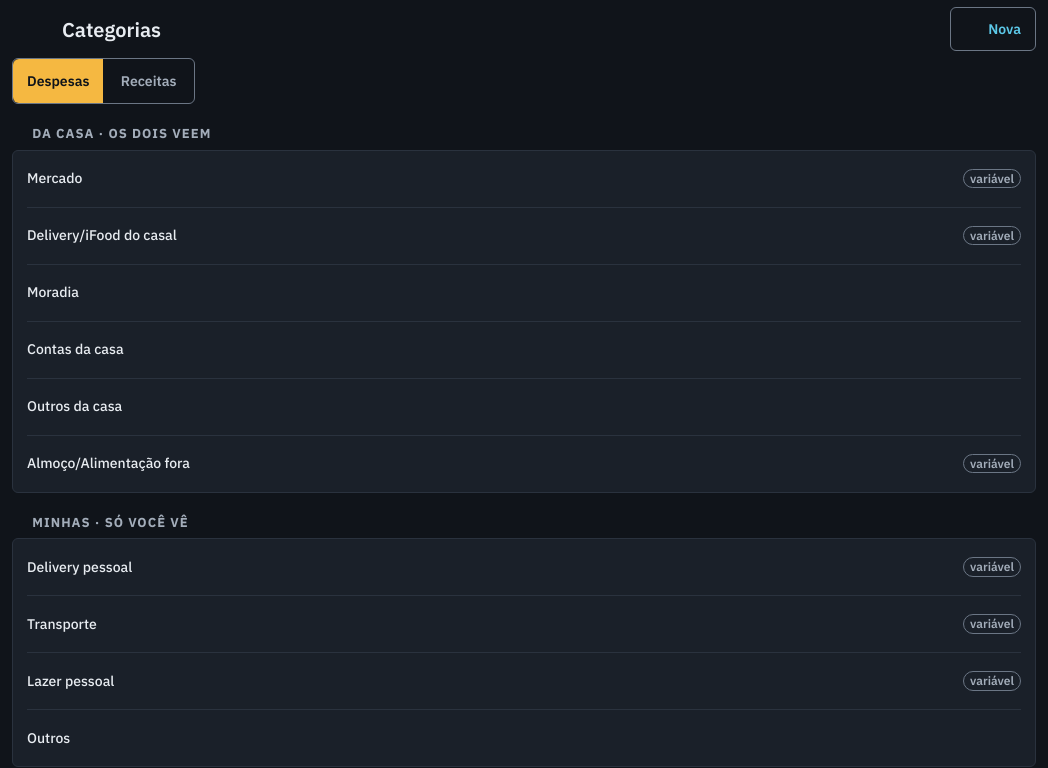
Test: Categorias (T19): receitas › trocar para Receitas mostra só "Minhas", sem selo, sem nova consulta, e grava ?tipo=receita
Expected: the link "Mercado variável" is shown, [27,169,1021,188]
Click the radio button labelled "Receitas" at (149, 81), box [121,72,176,90]
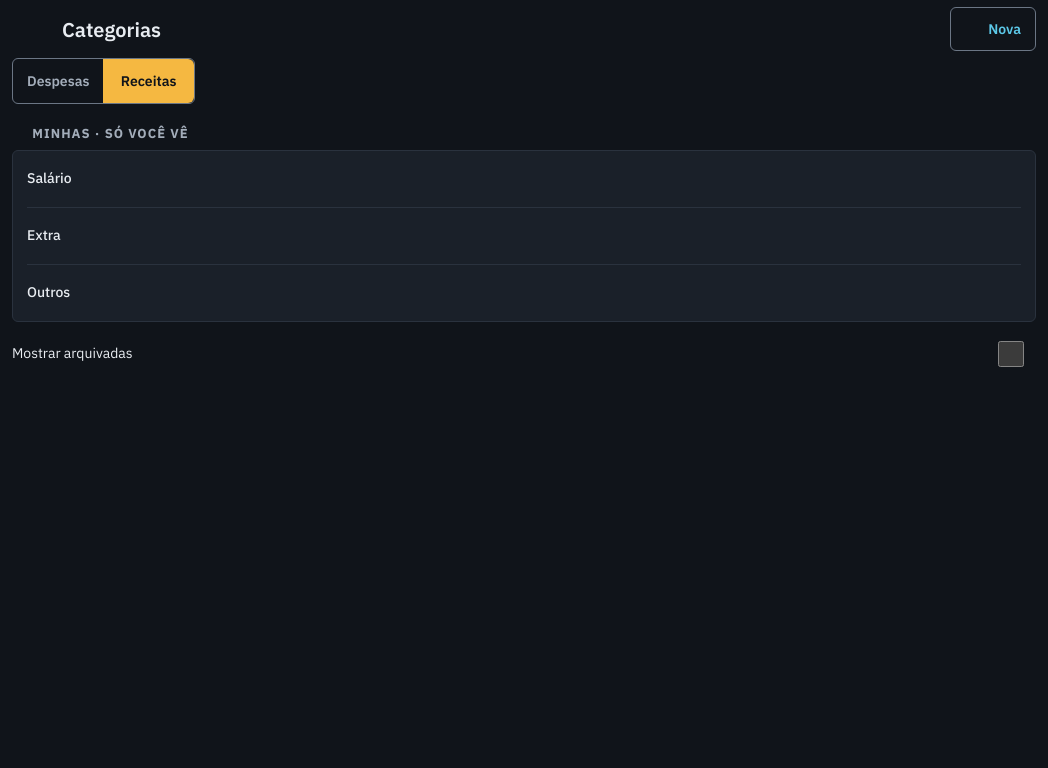
Expected: the headings read "Minhas · só você vê", in this order, [12,124,189,142]
Now the heading "Da casa" is gone
Now the link "variável" is gone
